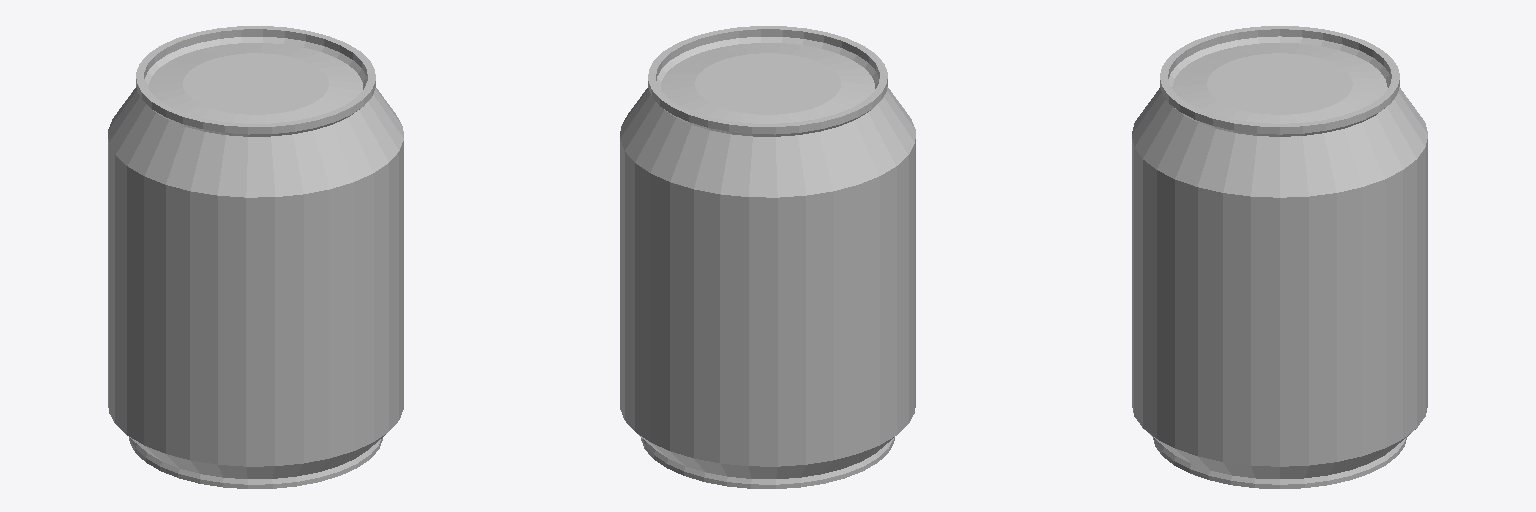
Rendered from cola.obj.
3 renders of one model, left to right at view 1: azimuth 30°, elevation 25°; view 2: azimuth 150°, elevation 25°; view 3: azimuth 270°, elevation 25°, orthographic.
Visible parts, largest first — view 1: coca-cola; view 2: coca-cola; view 3: coca-cola.
Part boxes in pixels (x1,y1,x2,y2): coca-cola: (108, 26, 403, 488); coca-cola: (620, 26, 915, 488); coca-cola: (1132, 26, 1427, 488).
Size of the model in its own units: 2 by 2.67 by 2.